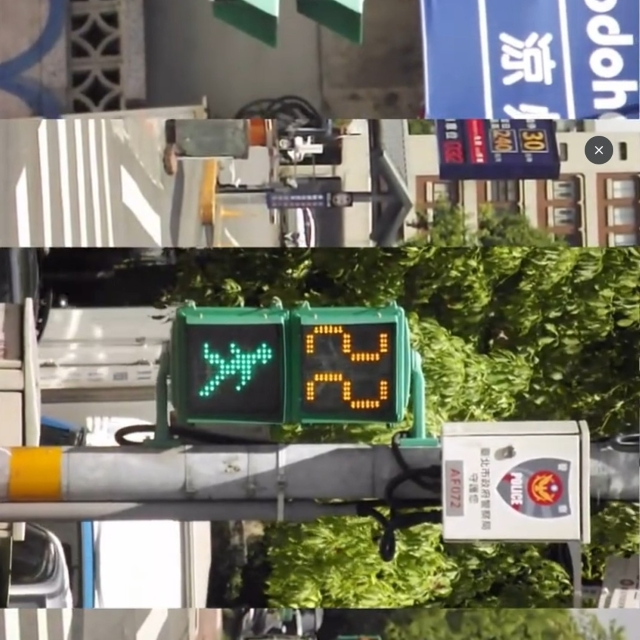green_light: (175, 307, 411, 426)
